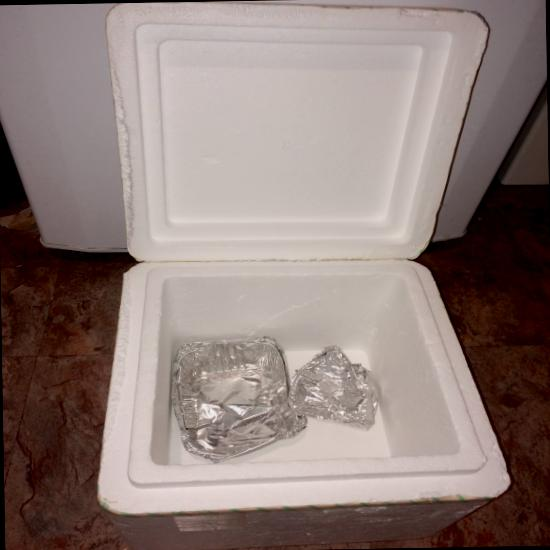Aluminium foil: (170, 335, 314, 463), (290, 345, 378, 430)
Styrofoam piece: (96, 1, 511, 550)
